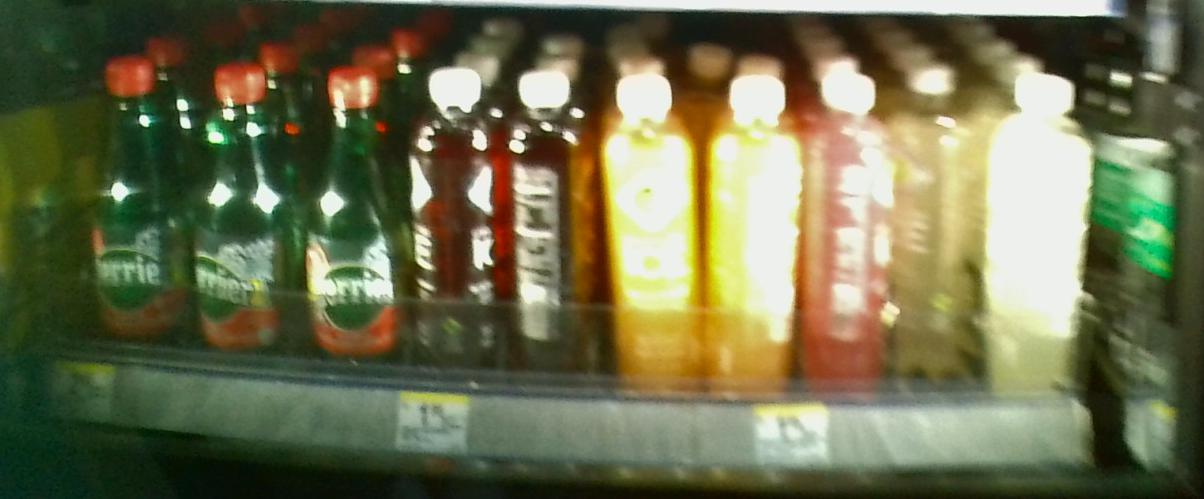bottle: (984, 72, 1092, 397), (300, 51, 400, 380), (709, 69, 806, 406), (195, 57, 294, 380), (407, 56, 503, 383), (605, 73, 701, 400), (85, 47, 187, 349), (509, 65, 598, 393), (812, 71, 896, 397), (902, 63, 975, 400)
